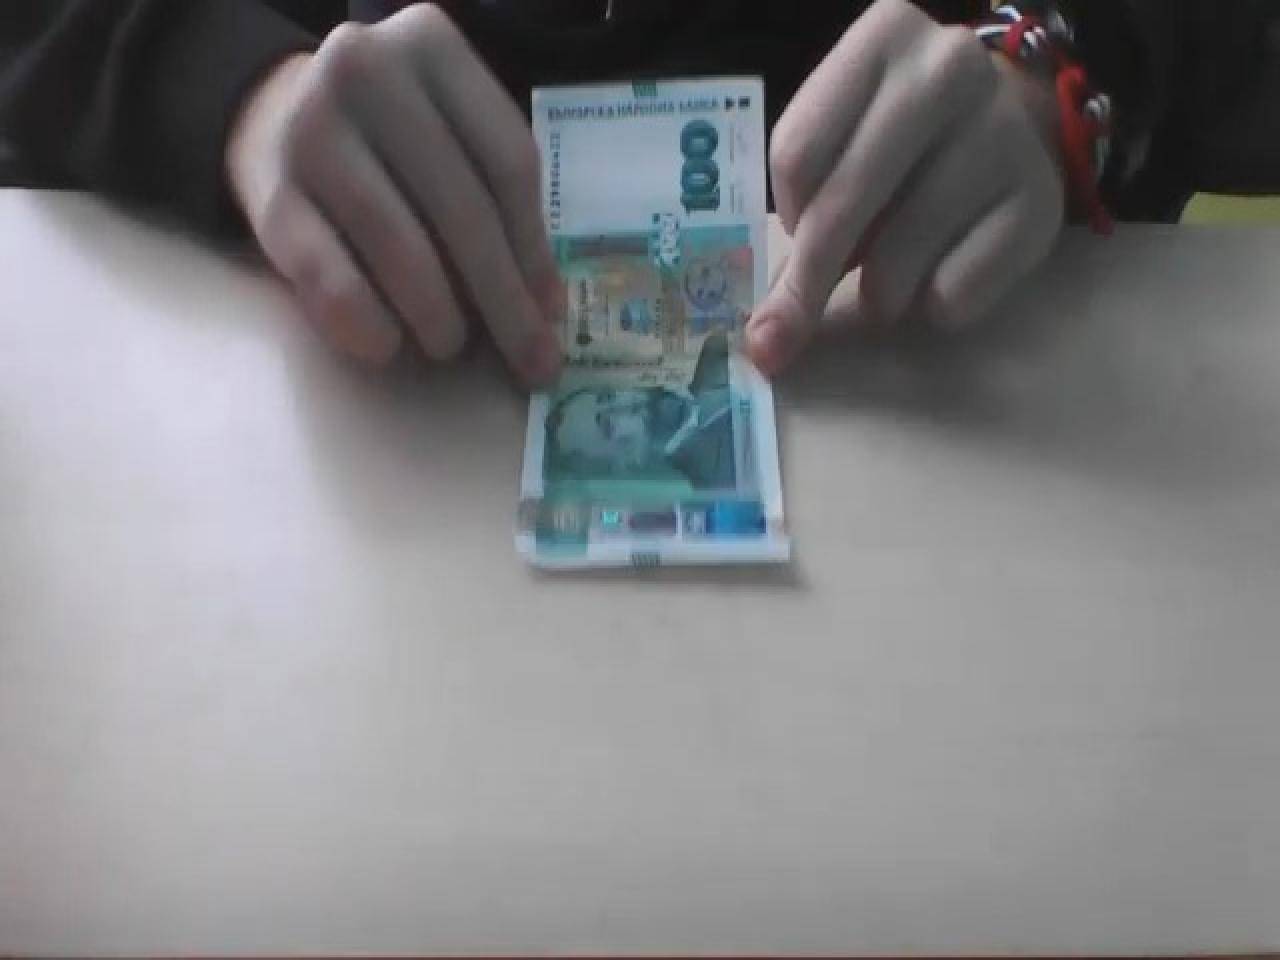100leva: (514, 75, 794, 576)
